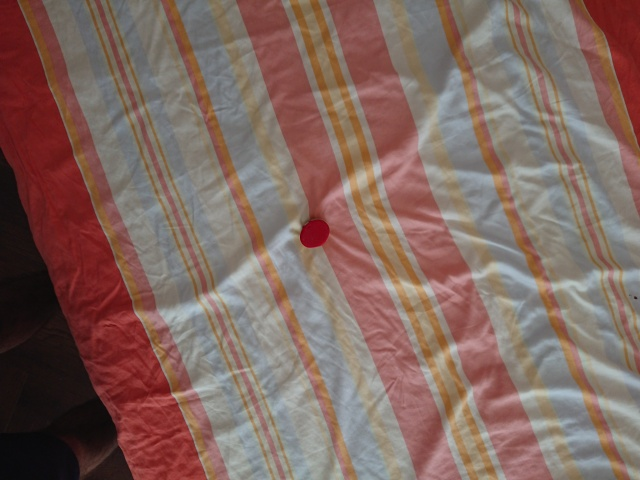Kotanyi Curry Spices Mix 70g: (298, 216, 331, 250)
